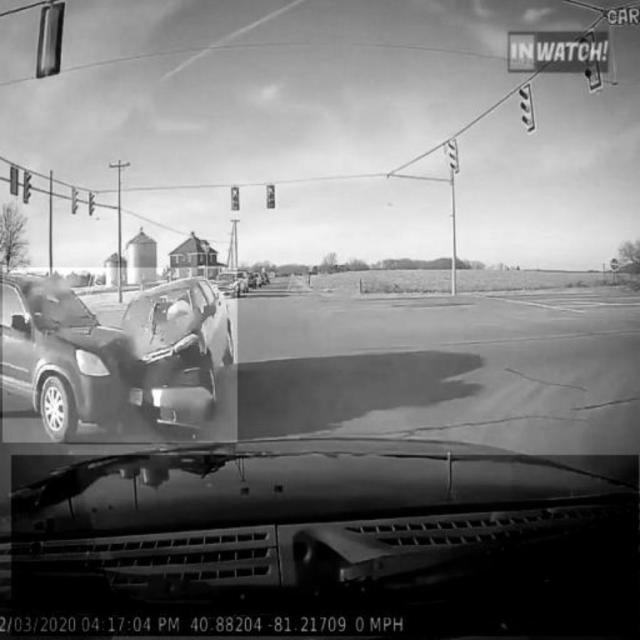accident: (3, 267, 237, 443)
vehicle: (12, 455, 639, 635)
